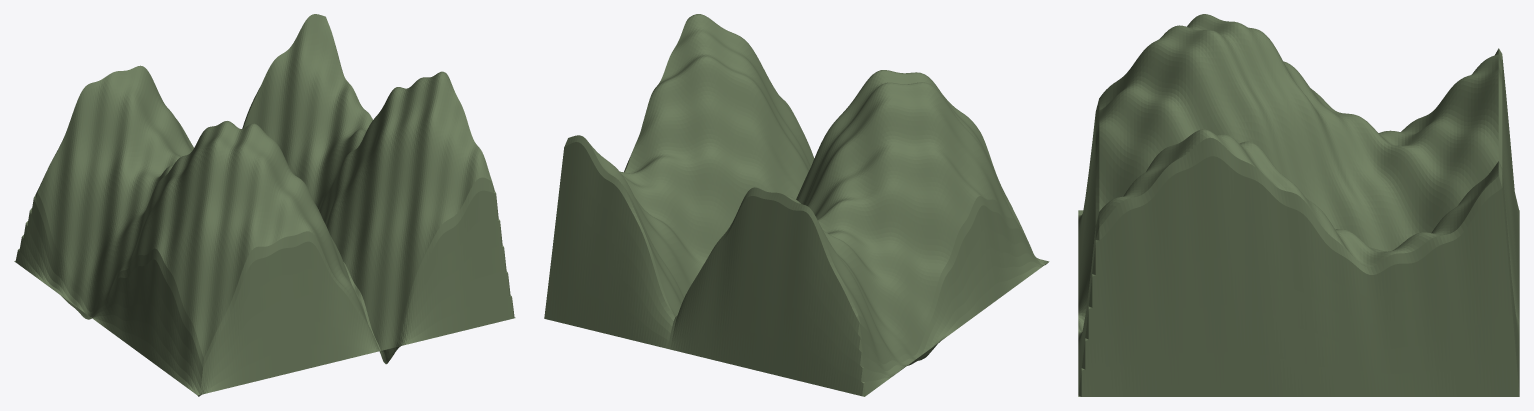
File: amber_red_canyon.obj
3 renders of one model, left to right at view 1: azimuth 30°, elevation 25°; view 2: azimuth 150°, elevation 25°; view 3: azimuth 270°, elevation 25°, orthographic. The views are drawn at different scales.
Visible parts, largest first — view 1: amber_red_canyon; view 2: amber_red_canyon; view 3: amber_red_canyon.
Boxes of the visible parts, x1,y1,x2,y2 form: amber_red_canyon: (14, 14, 515, 396); amber_red_canyon: (544, 14, 1049, 396); amber_red_canyon: (1078, 14, 1519, 396).
Bounding box in the file's own units: 28 × 21.8 × 28.
